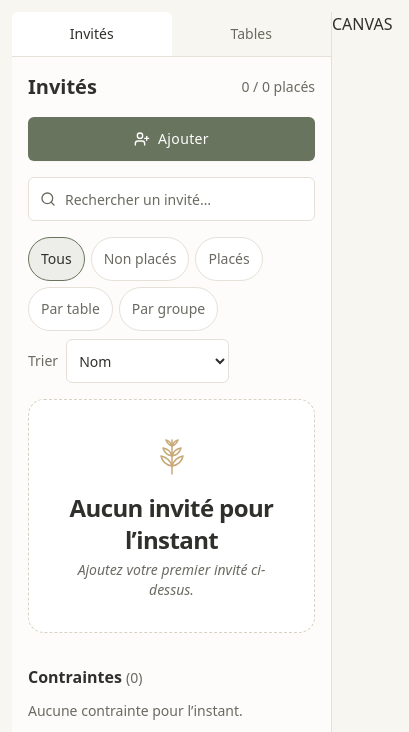
it: EditorLayout › switches the desktop aside between guests and tables
This screenshot has width=409, height=732.
Click the button "Tables" at point(251, 34), box [172,12,331,56]
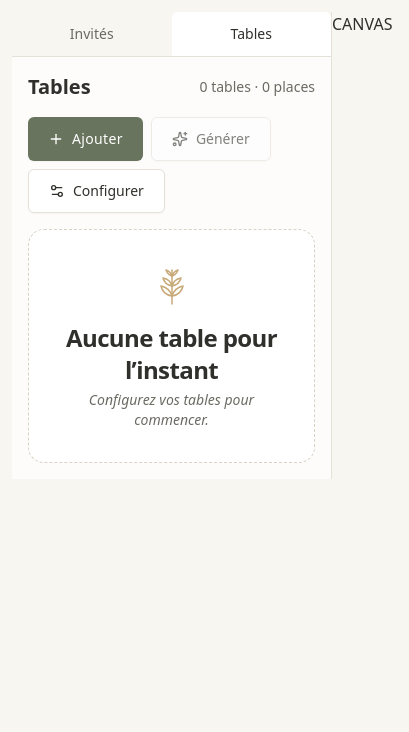
Expected: the text "Aucune table pour l’instant" is shown, [61,322,282,386]
Click the button "Invités" at point(92, 34), box [12,12,172,56]
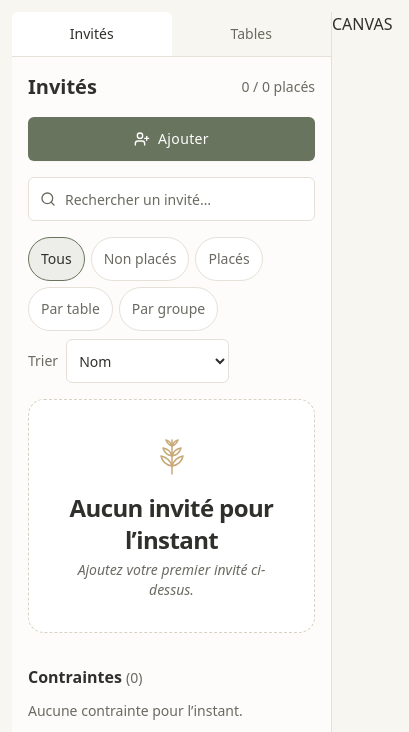
Expected: the search field is shown, [28,177,315,221]
